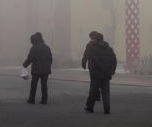person: (82, 32, 116, 114), (22, 31, 53, 105), (82, 31, 104, 101)
